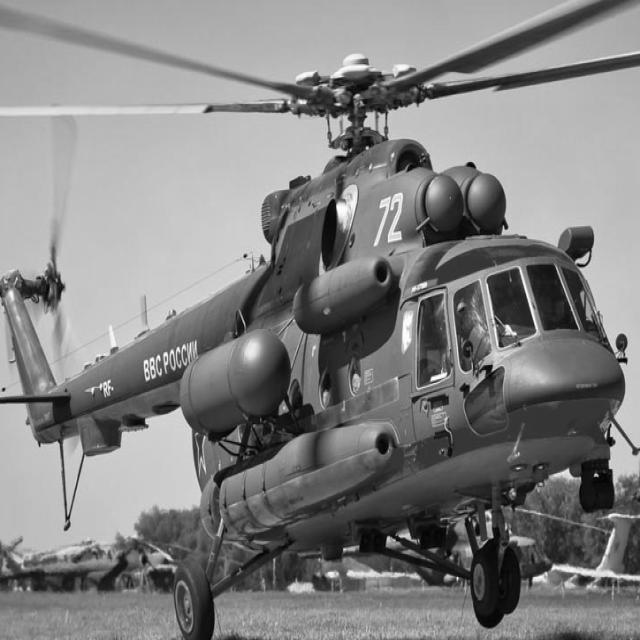helicopter: (1, 3, 640, 639)
